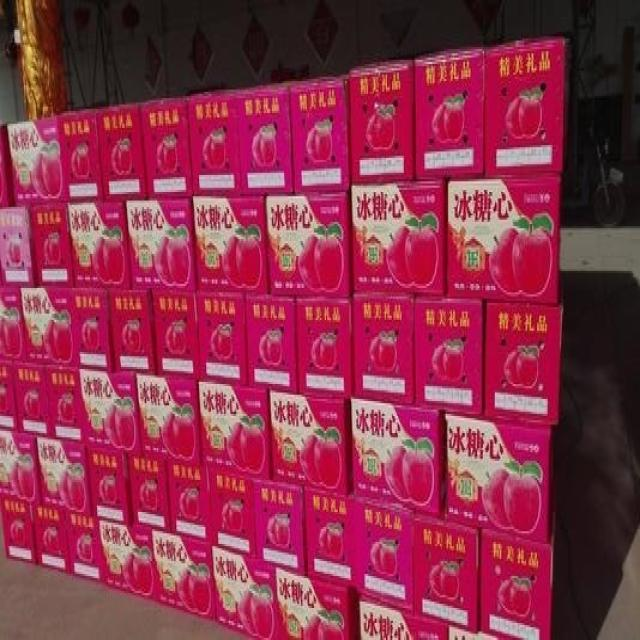box: (445, 173, 561, 303), (443, 416, 556, 542), (477, 489, 557, 640), (485, 34, 567, 179), (350, 399, 445, 523), (351, 179, 446, 299), (413, 45, 487, 181), (483, 305, 563, 425), (344, 58, 416, 186), (266, 190, 352, 297), (28, 205, 132, 290), (413, 299, 485, 420), (270, 393, 352, 495), (20, 288, 114, 373), (413, 514, 481, 631), (192, 198, 270, 297), (291, 73, 351, 194), (198, 382, 272, 480), (125, 198, 198, 294), (352, 294, 413, 407), (355, 497, 413, 614), (237, 81, 294, 196), (273, 567, 358, 640), (188, 87, 242, 198), (134, 375, 200, 465), (151, 531, 216, 621), (212, 546, 274, 640), (295, 297, 352, 399), (6, 117, 67, 209), (141, 96, 193, 201), (304, 489, 356, 593), (97, 102, 147, 207), (78, 371, 140, 454), (246, 297, 298, 395), (255, 480, 306, 576), (197, 292, 247, 386), (36, 437, 91, 521), (58, 109, 103, 209), (99, 523, 155, 599), (151, 292, 198, 382), (210, 469, 256, 559), (109, 290, 156, 378), (167, 459, 212, 546), (358, 597, 447, 640), (86, 446, 133, 525), (128, 452, 170, 535), (0, 431, 41, 506), (47, 367, 83, 446), (0, 209, 35, 290), (12, 363, 48, 437), (66, 512, 102, 582), (34, 506, 70, 574), (0, 361, 18, 431), (447, 623, 521, 640)
